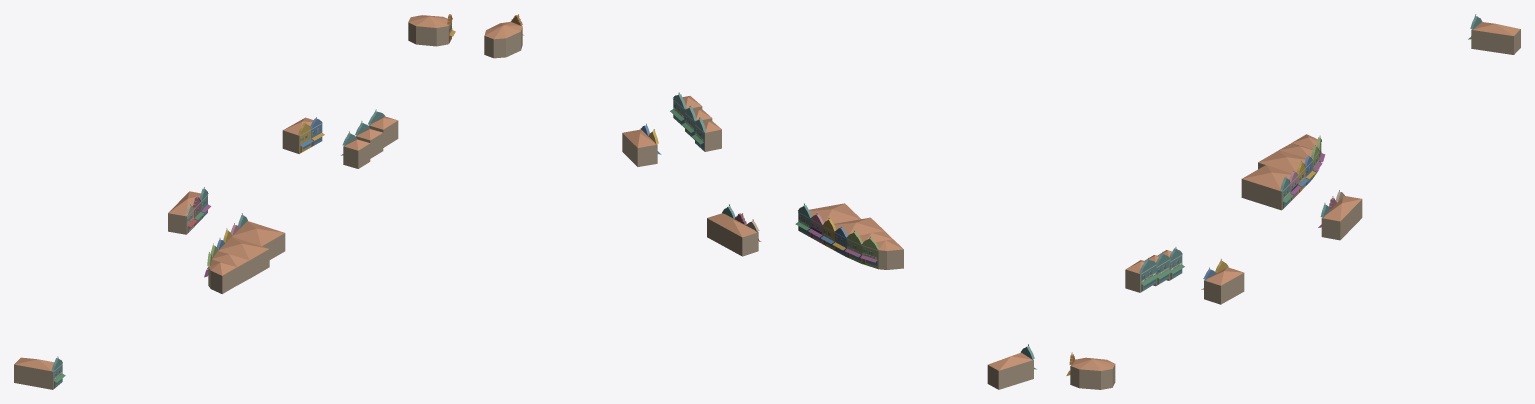
Rendered from ora_haven.glb.
3 views of the same model, side by side, from view 1: azimuth 90°, elevation 25°; view 2: azimuth 150°, elevation 25°; view 3: azimuth 270°, elevation 25° (orthographic). The views are drawn at different scales.
Parts seen in each view (by area): view 1: ora_haven_lod0; view 2: ora_haven_lod0; view 3: ora_haven_lod0.
Part boxes in pixels (left/top/right/bottom): ora_haven_lod0: left=14, top=14, right=455, bottom=389; ora_haven_lod0: left=484, top=14, right=1036, bottom=389; ora_haven_lod0: left=1066, top=14, right=1520, bottom=389.
Size of what is drawn, in the model's own units: 231 by 13.45 by 124.
Materials: 3 (1 with a texture image).
